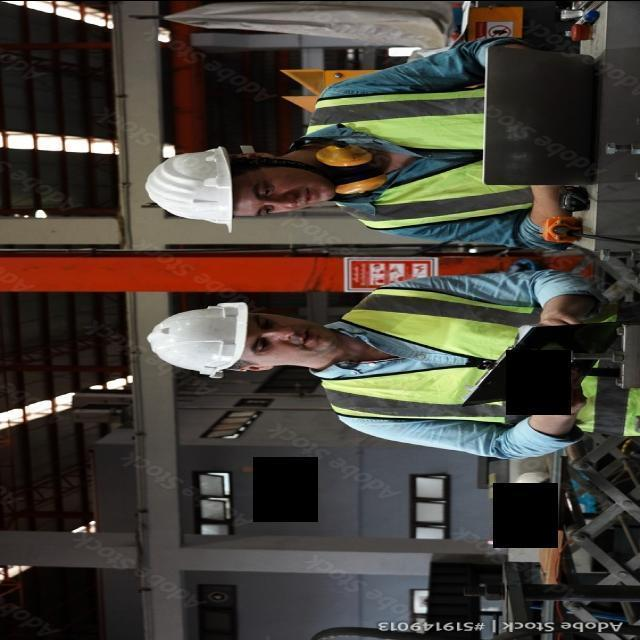white helmet: (141, 126, 243, 241), (144, 299, 254, 391)
